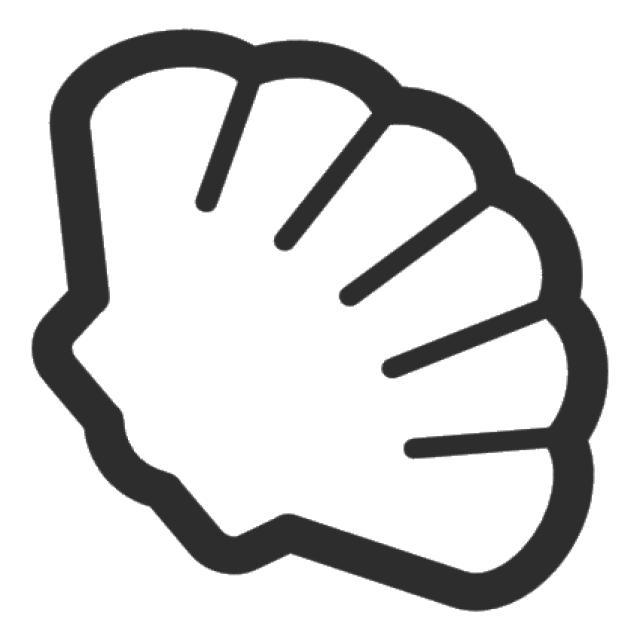shell: (21, 21, 619, 627)
